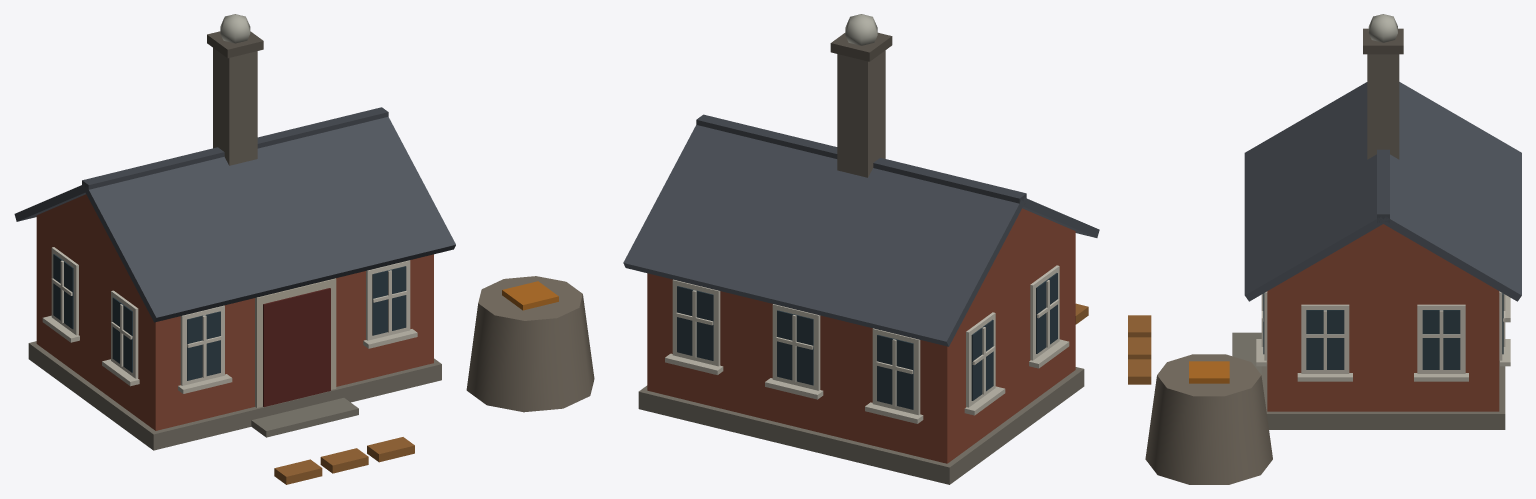
File: procedural_bronze_foundry@5.glb
3 renders of one model, left to right at view 1: azimuth 30°, elevation 25°; view 2: azimuth 150°, elevation 25°; view 3: azimuth 270°, elevation 25°, orthographic. The views are drawn at different scales.
Parts seen in each view (by area): view 1: part_0, part_4; view 2: part_0, part_4; view 3: part_0, part_4.
Boxes of the visible parts, x1,y1,x2,y2 form: part_0: (14,31,594,484); part_4: (220,14,250,43); part_0: (623,32,1099,484); part_4: (845,14,877,45); part_0: (1128,28,1521,484); part_4: (1368,14,1397,42).
Size of the model in its own units: 7.96 by 6.59 by 6.79.
